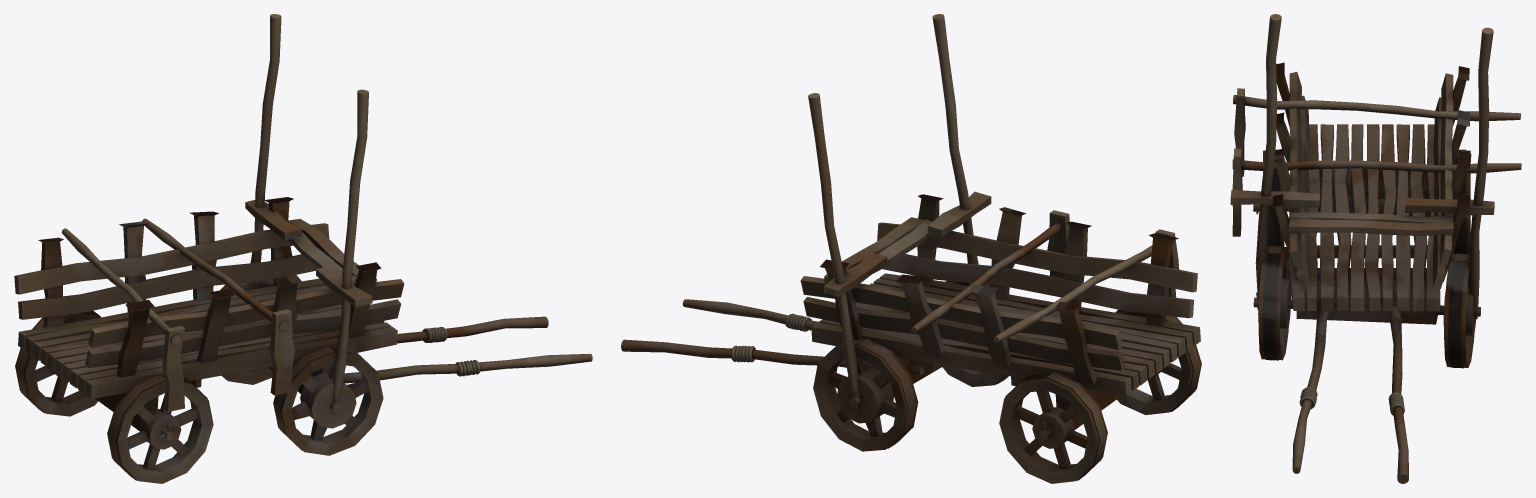
Rendered from wooden_cart.fbx.
The picture shows the model from 3 angles, left to right: view 1: azimuth 30°, elevation 25°; view 2: azimuth 150°, elevation 25°; view 3: azimuth 270°, elevation 25°; orthographic projection. The views are drawn at different scales.
Parts seen in each view (by area): view 1: Wood_cart_2_0.001; view 2: Wood_cart_2_0.001; view 3: Wood_cart_2_0.001.
Part boxes in pixels (box(x1,y1,x2,y2)): Wood_cart_2_0.001: box(14, 14, 592, 483); Wood_cart_2_0.001: box(621, 14, 1201, 483); Wood_cart_2_0.001: box(1230, 14, 1521, 483).
Size of the model in its own units: 418 by 275 by 204.
